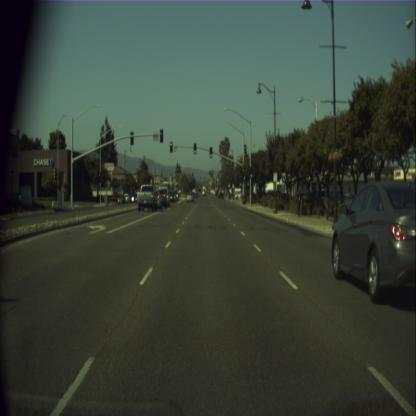Green: (242, 170, 246, 180), (193, 142, 196, 154), (250, 166, 253, 178), (209, 147, 212, 157)
Red: (170, 141, 172, 152), (98, 172, 100, 181)
